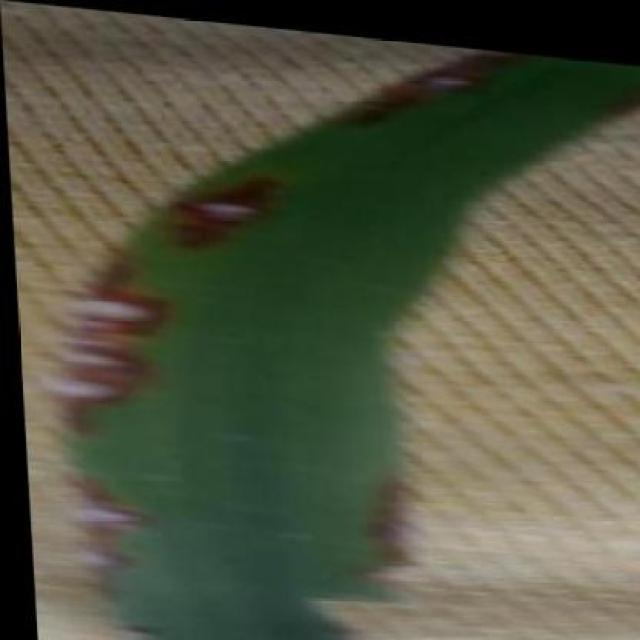Bacterial_Leaf_Blight: (342, 44, 526, 138), (144, 152, 278, 278), (63, 489, 171, 596), (56, 272, 195, 334), (43, 363, 165, 419), (370, 468, 428, 583), (54, 334, 175, 381), (623, 65, 640, 129)
